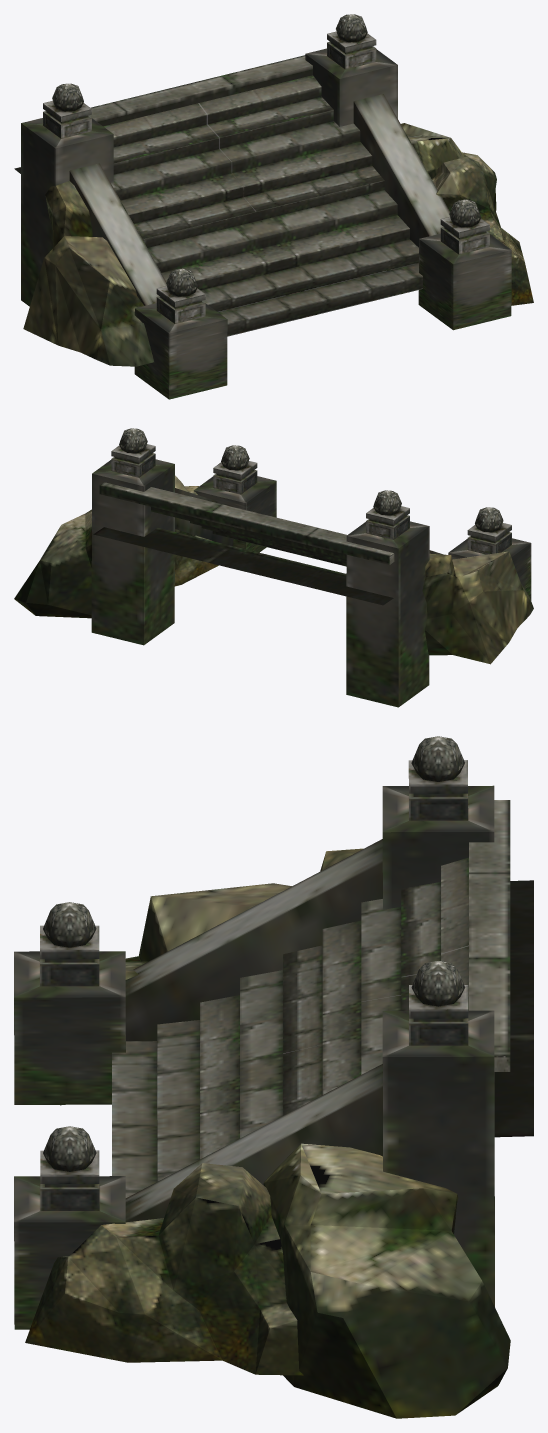
Rendered from lianqizong_taijie01b_st.FBX.
3 renders of one model, top to bottom at view 1: azimuth 30°, elevation 25°; view 2: azimuth 150°, elevation 25°; view 3: azimuth 270°, elevation 25°, orthographic. The views are drawn at different scales.
Parts seen in each view (by area): view 1: lianqizong_taijie01b_st_01A, lianqizong_taijie01b_st_02A, lianqizong_taijie01b_st_03A, lianqizong_taijie01b_st_04A; view 2: lianqizong_taijie01b_st_02A, lianqizong_taijie01b_st_03A, lianqizong_taijie01b_st_04A, lianqizong_taijie01b_st_01A; view 3: lianqizong_taijie01b_st_02A, lianqizong_taijie01b_st_03A, lianqizong_taijie01b_st_01A, lianqizong_taijie01b_st_04A.
Part boxes in pixels (box(x1,y1,x2,y2)): lianqizong_taijie01b_st_01A: box(103, 75, 422, 336); lianqizong_taijie01b_st_02A: box(21, 14, 511, 399); lianqizong_taijie01b_st_03A: box(23, 123, 533, 366); lianqizong_taijie01b_st_04A: box(14, 55, 312, 173); lianqizong_taijie01b_st_02A: box(91, 428, 531, 707); lianqizong_taijie01b_st_03A: box(14, 475, 533, 664); lianqizong_taijie01b_st_04A: box(93, 482, 394, 605); lianqizong_taijie01b_st_01A: box(190, 521, 346, 566); lianqizong_taijie01b_st_02A: box(14, 736, 494, 1329); lianqizong_taijie01b_st_03A: box(25, 848, 510, 1418); lianqizong_taijie01b_st_01A: box(112, 857, 468, 1197); lianqizong_taijie01b_st_04A: box(469, 800, 533, 1137).
Bounding box in the file's own units: 575 × 247 × 322.
